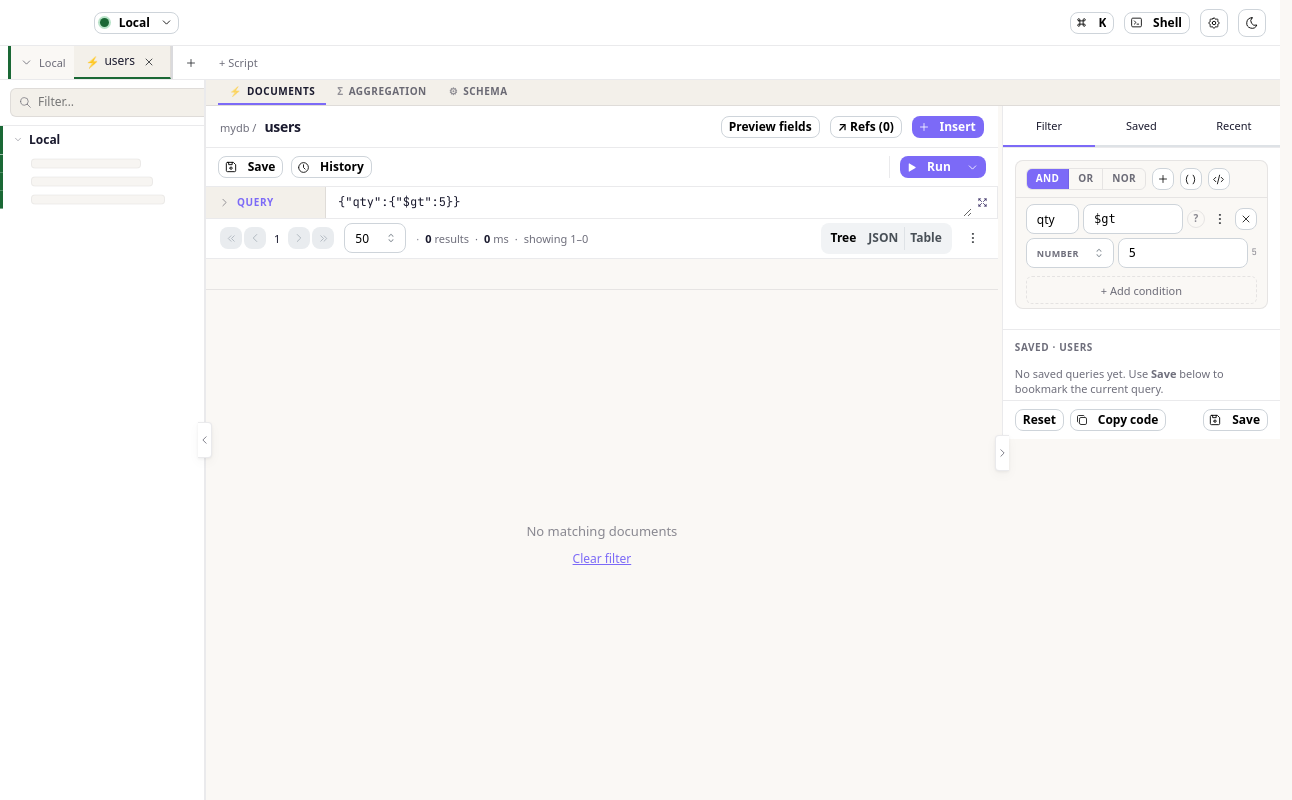
Scenario: per-group drag targeting for nested filter groups › a drop on the "N not applied" problems banner lands on the root group, not a dead zone
Replace the text in the 3rd field with placeholder "value" with "not-a-number" at (1183, 253), box [1118,238,1248,268]
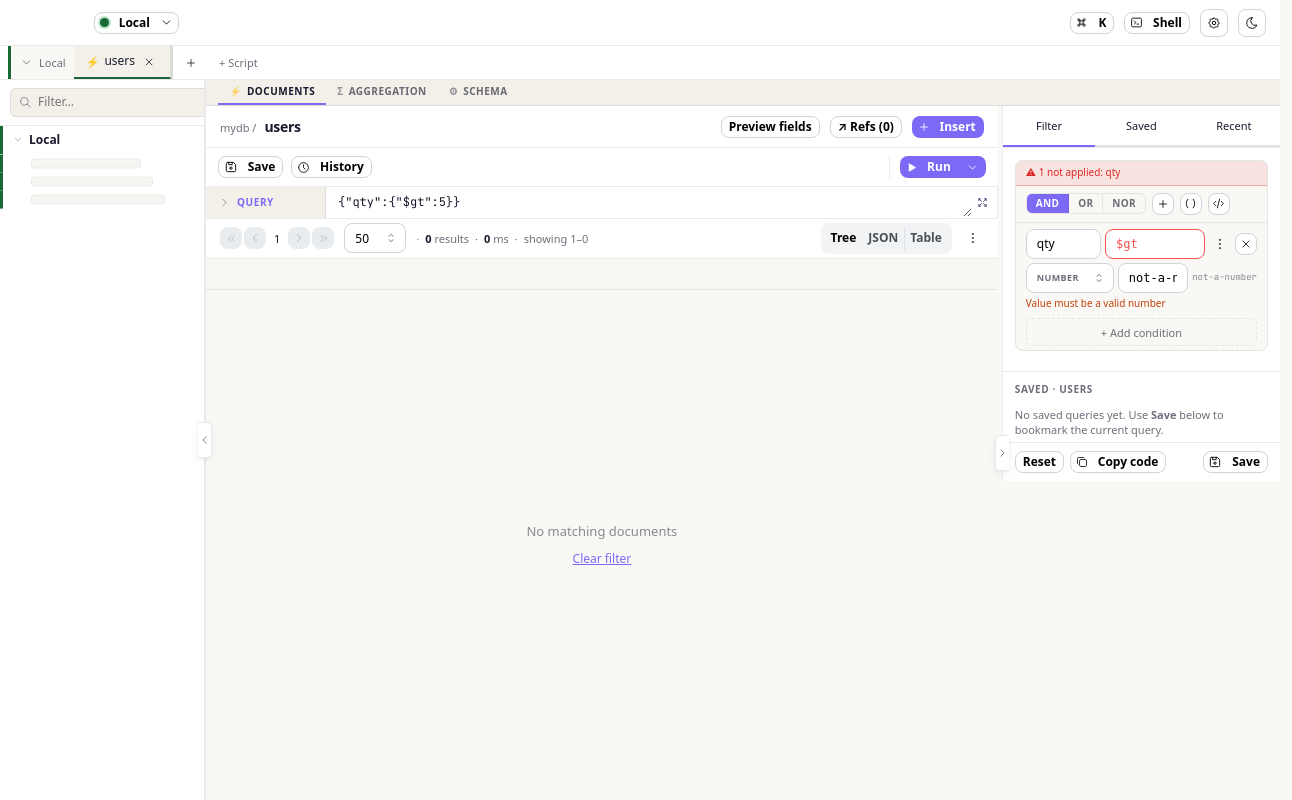
Check: the number of fields with placeholder "field" is 1, box [1026,228,1101,258]
Check: the message "⚠ 1 not applied: qty" is shown, box [1016,161,1267,186]
